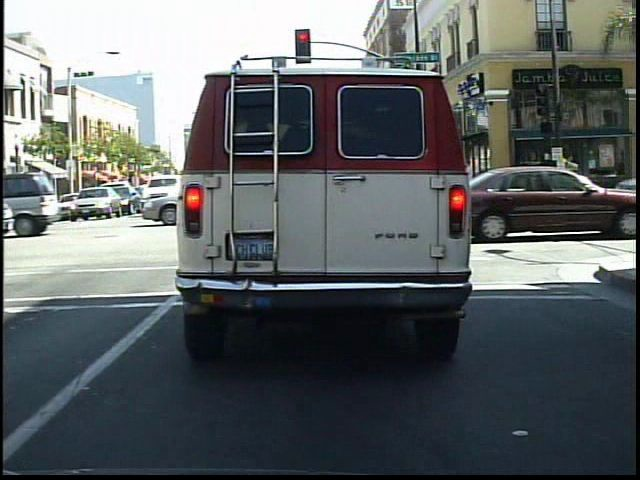person: (538, 150, 562, 205), (513, 156, 533, 202)
